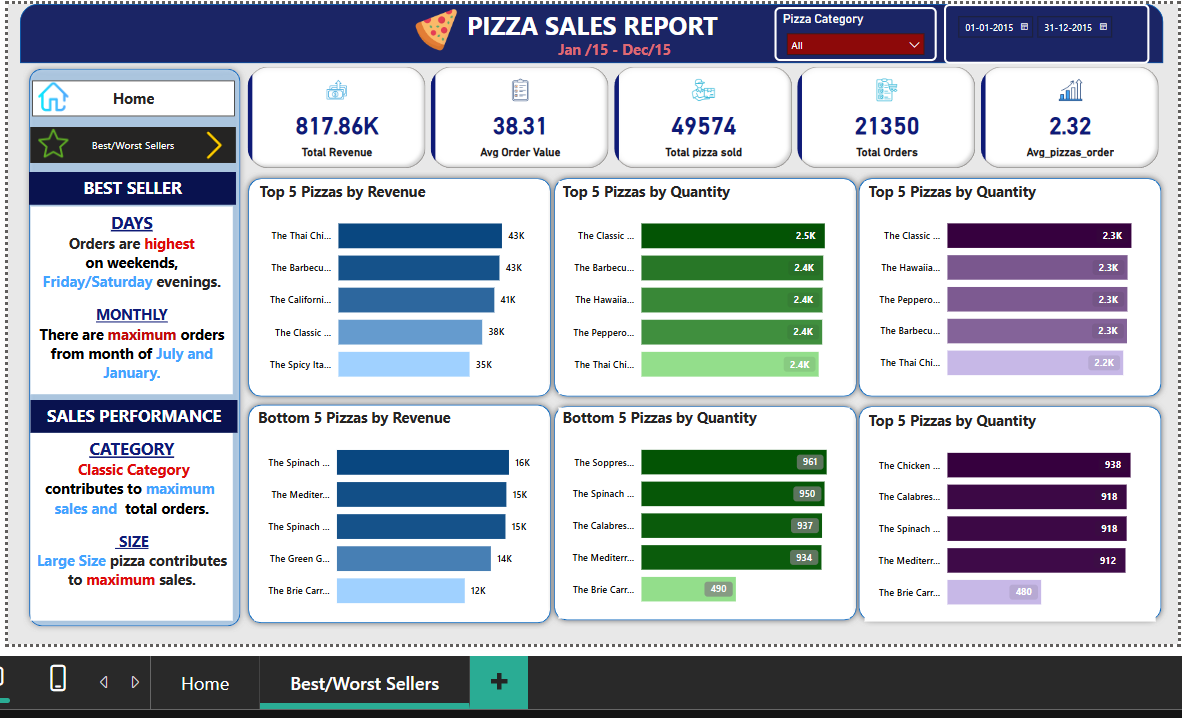

This screenshot's page, from the dashboard's own definition file:
{"tool":"powerbi","page":{"name":"Best/Worst Sellers","canvas":[1500,820],"ordinal":1},"visuals":[{"type":"shape","box":[19.2,75,286.5,730.8],"z":0},{"type":"shape","box":[15.8,0,1465.8,76],"z":1000},{"type":"textbox","title":"Pi","box":[160.5,0,1178.9,150],"z":2000},{"type":"textbox","box":[700,40,565.8,150],"z":3000},{"type":"image","box":[481.6,0,136.8,65.8],"z":4000},{"type":"shape","box":[300,215.4,404,296],"z":5000},{"type":"textbox","box":[27.5,202.5,265,42.5],"z":6000},{"type":"cardVisual","fields":{"Data":["Measure_Table.Total Revenue","Measure_Table.Avg Order Value","Measure_Table.Total pizza sold","Measure_Table.Total Orders","Measure_Table.Avg_pizzas_order"]},"box":[301.9,75,1178.8,140.4],"z":7000},{"type":"textbox","box":[32.5,245,260,277.5],"z":8000},{"type":"textbox","box":[30,525,265,42.5],"z":9000},{"type":"textbox","box":[30,567.5,257.5,222.5],"z":10000},{"type":"slicer","title":"Pizza Category","fields":{"Values":["pizza_sales.pizza_category"]},"box":[982.7,3.8,207.7,69.2],"z":11000},{"type":"slicer","title":"Date","fields":{"Values":["pizza_sales.order_date"]},"box":[1200,0,263.5,76.9],"z":12000},{"type":"shape","box":[692.3,215.4,403.8,296],"z":13000},{"type":"shape","box":[1082.7,215.4,403.8,296],"z":14000},{"type":"shape","box":[300,505.8,403.8,296],"z":15000},{"type":"shape","box":[692.3,507.7,403.8,290.4],"z":16000},{"type":"shape","box":[1082.7,507.7,403.8,290.4],"z":17000},{"type":"barChart","title":"Top 5 Pizzas by Revenue","fields":{"Y":["Measure_Table.Total Revenue"],"Category":["pizza_sales.pizza_name"]},"box":[317.3,226.9,371.2,273.1],"z":18000},{"type":"barChart","title":"Bottom 5 Pizzas by Revenue","fields":{"Y":["Measure_Table.Total Revenue"],"Category":["pizza_sales.pizza_name"]},"box":[315.4,517.3,371.2,273.1],"z":19000},{"type":"barChart","title":"Top 5 Pizzas by Quantity","fields":{"Y":["Sum(pizza_sales.quantity)"],"Category":["pizza_sales.pizza_name"]},"box":[705.8,226.9,371.2,273.1],"z":20000},{"type":"barChart","title":"Bottom 5 Pizzas by Quantity","fields":{"Y":["Sum(pizza_sales.quantity)"],"Category":["pizza_sales.pizza_name"]},"box":[704.9,517.1,373.2,270.7],"z":21000},{"type":"barChart","title":"Top 5 Pizzas by Quantity","fields":{"Y":["Measure_Table.Total Orders"],"Category":["pizza_sales.pizza_name"]},"box":[1097.6,226.8,373.2,271],"z":22000},{"type":"barChart","title":"Top 5 Pizzas by Quantity","fields":{"Y":["Measure_Table.Total Orders"],"Category":["pizza_sales.pizza_name"]},"box":[1097.6,522,373.2,270.7],"z":23000},{"type":"pageNavigator","box":[29.3,158.5,263.4,46],"z":24000},{"type":"pageNavigator","box":[31.7,97.6,261,46.3],"z":25000},{"type":"image","box":[29.3,153.7,58.5,48.8],"z":26000},{"type":"image","box":[236.6,158.5,56.1,46.3],"z":27000},{"type":"image","box":[29.3,95.1,58.5,48.8],"z":28000}]}

Visuals, with their boxes on the page's 1500x820 design canvas (x1, y1, x2, y2). These are canvas units, not pixel positions in the 1182x718 screenshot, which may show the page scaled, cropped or inside an application window:
shape: BBox(19, 75, 306, 806)
shape: BBox(16, 0, 1482, 76)
"Pi" textbox: BBox(160, 0, 1339, 150)
textbox: BBox(700, 40, 1266, 190)
image: BBox(482, 0, 618, 66)
shape: BBox(300, 215, 704, 511)
textbox: BBox(28, 202, 292, 245)
cardVisual - Measure_Table.Total Revenue x Measure_Table.Avg Order Value: BBox(302, 75, 1481, 215)
textbox: BBox(32, 245, 292, 522)
textbox: BBox(30, 525, 295, 568)
textbox: BBox(30, 568, 288, 790)
"Pizza Category" slicer: BBox(983, 4, 1190, 73)
"Date" slicer: BBox(1200, 0, 1464, 77)
shape: BBox(692, 215, 1096, 511)
shape: BBox(1083, 215, 1486, 511)
shape: BBox(300, 506, 704, 802)
shape: BBox(692, 508, 1096, 798)
shape: BBox(1083, 508, 1486, 798)
"Top 5 Pizzas by Revenue" barChart: BBox(317, 227, 688, 500)
"Bottom 5 Pizzas by Revenue" barChart: BBox(315, 517, 687, 790)
"Top 5 Pizzas by Quantity" barChart: BBox(706, 227, 1077, 500)
"Bottom 5 Pizzas by Quantity" barChart: BBox(705, 517, 1078, 788)
"Top 5 Pizzas by Quantity" barChart: BBox(1098, 227, 1471, 498)
"Top 5 Pizzas by Quantity" barChart: BBox(1098, 522, 1471, 793)
pageNavigator: BBox(29, 158, 293, 204)
pageNavigator: BBox(32, 98, 293, 144)
image: BBox(29, 154, 88, 202)
image: BBox(237, 158, 293, 205)
image: BBox(29, 95, 88, 144)
